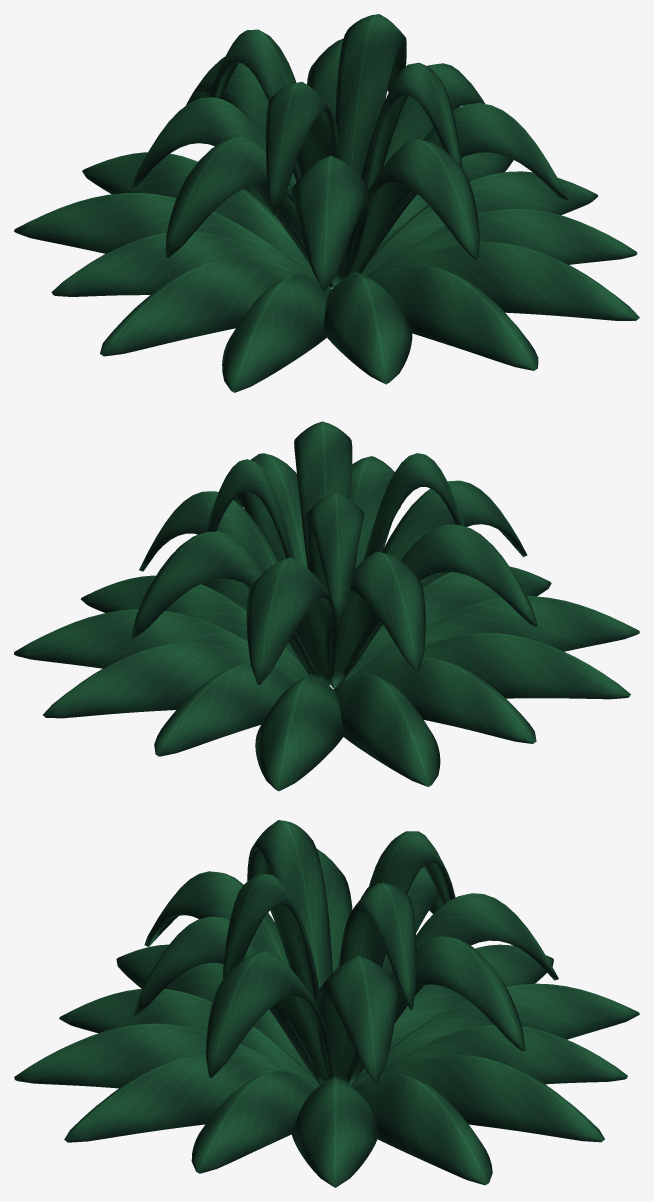
The model's file is spiky-rosette.glb.
3 views of the same model, one above another, from view 1: azimuth 30°, elevation 25°; view 2: azimuth 150°, elevation 25°; view 3: azimuth 270°, elevation 25° (orthographic). The views are drawn at different scales.
Visible parts, largest first — view 1: spiky-rosette_ground-jade; view 2: spiky-rosette_ground-jade; view 3: spiky-rosette_ground-jade.
Boxes of the visible parts, x1,y1,x2,y2 form: spiky-rosette_ground-jade: (14,14,639,392); spiky-rosette_ground-jade: (14,421,639,791); spiky-rosette_ground-jade: (14,820,639,1187).
Bounding box in the file's own units: 1.13 × 0.495 × 1.16.
1 material, 1 textured.
